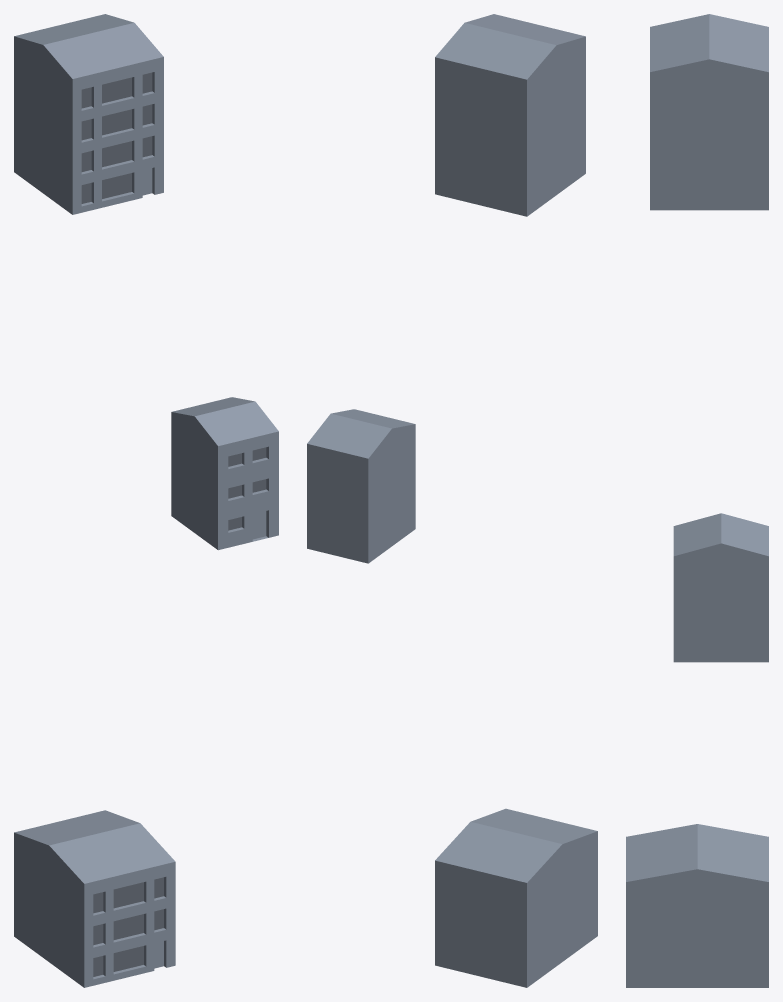
Rendered from BinaGrup5.gltf.
3 views of the same model, side by side, from view 1: azimuth 30°, elevation 25°; view 2: azimuth 150°, elevation 25°; view 3: azimuth 270°, elevation 25° (orthographic).
Parts seen in each view (by area): view 1: Building_072.014, Building_076.014, Building_081.014, Building_072.015, Building_076.015, Building_081.015; view 2: Building_072.014, Building_076.014, Building_081.014; view 3: Building_072.014, Building_076.014, Building_081.014.
Boxes of the visible parts, x1=… form: Building_072.014: x1=14, y1=14, x2=163, y2=214; Building_076.014: x1=14, y1=810, x2=175, y2=987; Building_081.014: x1=171, y1=397, x2=278, y2=550; Building_072.015: x1=81, y1=72, x2=152, y2=203; Building_076.015: x1=93, y1=877, x2=163, y2=976; Building_081.015: x1=228, y1=447, x2=266, y2=530; Building_072.014: x1=435, y1=14, x2=585, y2=216; Building_076.014: x1=435, y1=808, x2=597, y2=987; Building_081.014: x1=307, y1=409, x2=415, y2=563; Building_072.014: x1=650, y1=14, x2=768, y2=210; Building_076.014: x1=626, y1=824, x2=768, y2=987; Building_081.014: x1=673, y1=513, x2=768, y2=662.
Bounding box in the file's own units: 0.1168 × 0.4674 × 0.0652.
